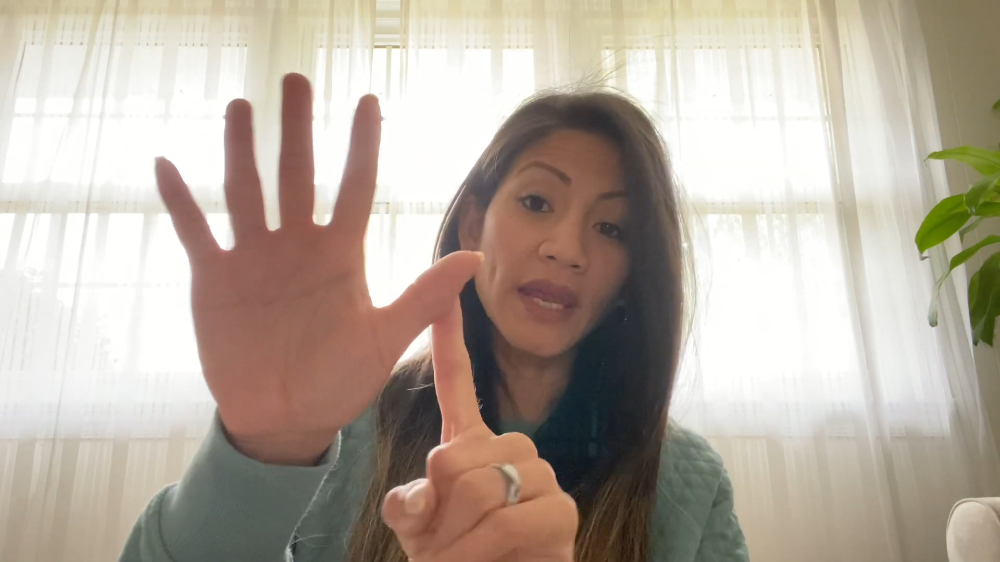hello: (152, 67, 483, 442)
